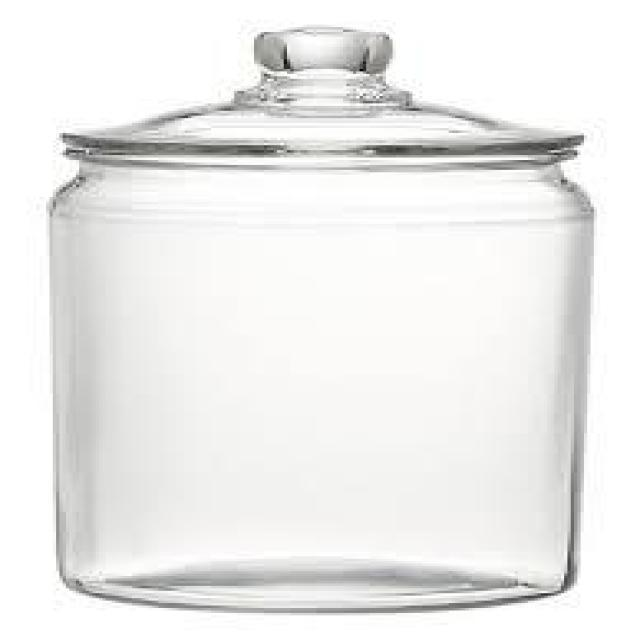Glass: (48, 23, 598, 616)
